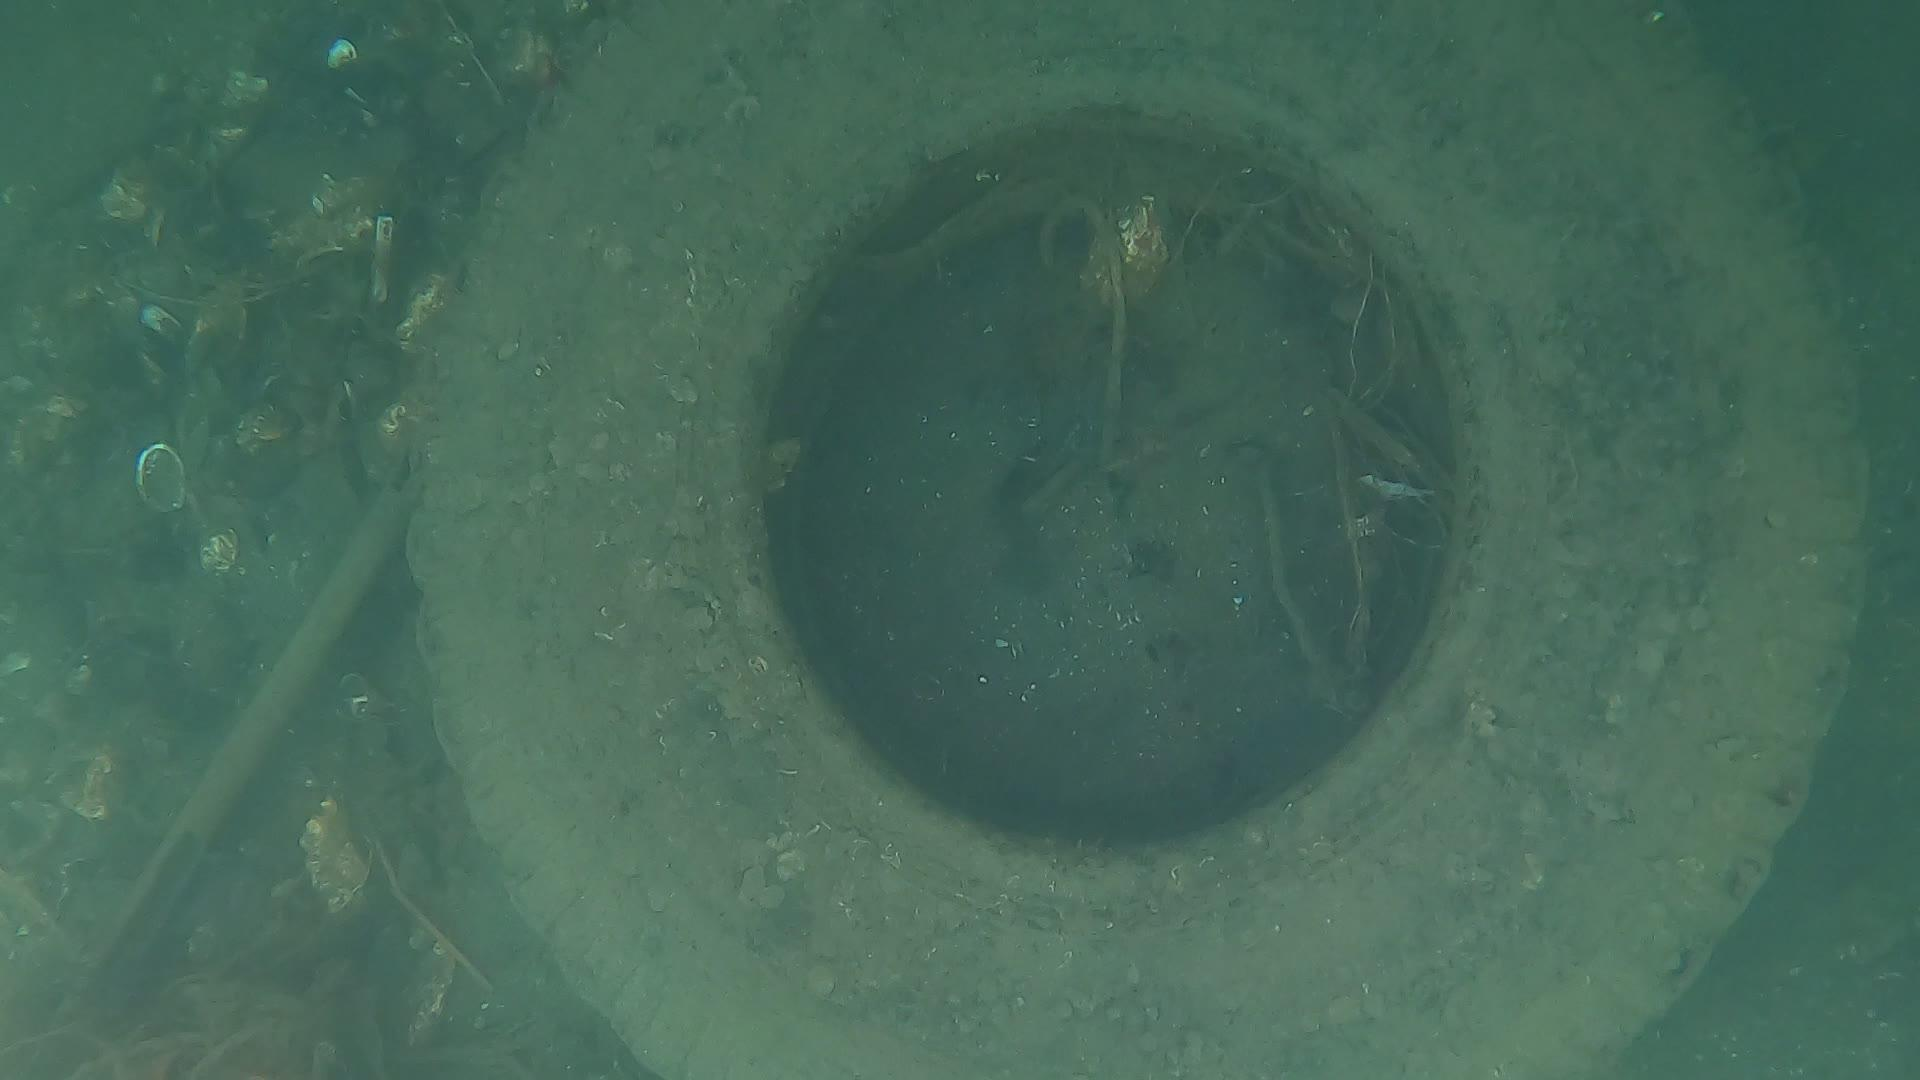tire: (400, 0, 1874, 1080)
